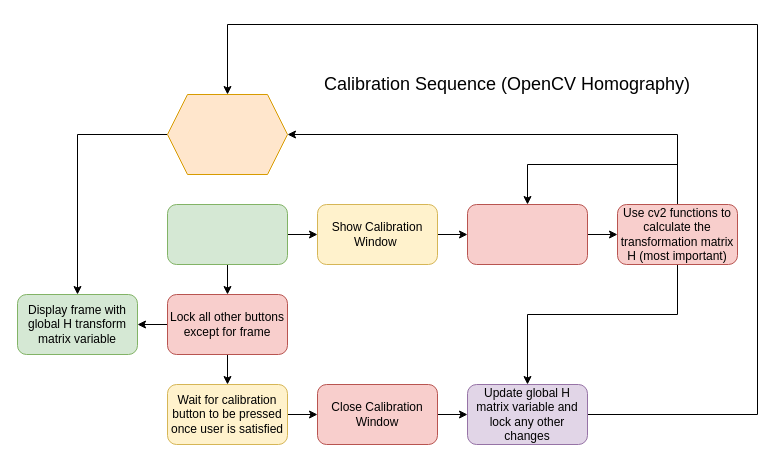
Image size: 783x462. Some labels were removed from this diagram. The shapes that lost their labels are listed below. From the top down, each one's centre as x and y in pixels, then its label:
the point at 227,134: Global H tranformation matrix variable
the point at 227,234: Calibration Button Pressed
the point at 527,234: Find 4 distinct corners on the board (manual adjustment)
